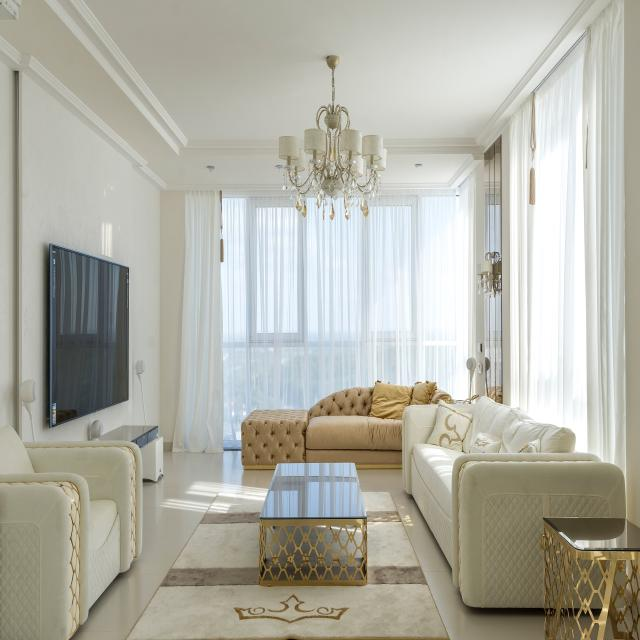floor: (68, 451, 276, 640), (356, 468, 545, 640)
wall: (22, 72, 160, 441), (624, 0, 640, 529), (0, 60, 19, 436), (160, 191, 185, 451), (501, 125, 511, 407), (475, 160, 485, 403)
